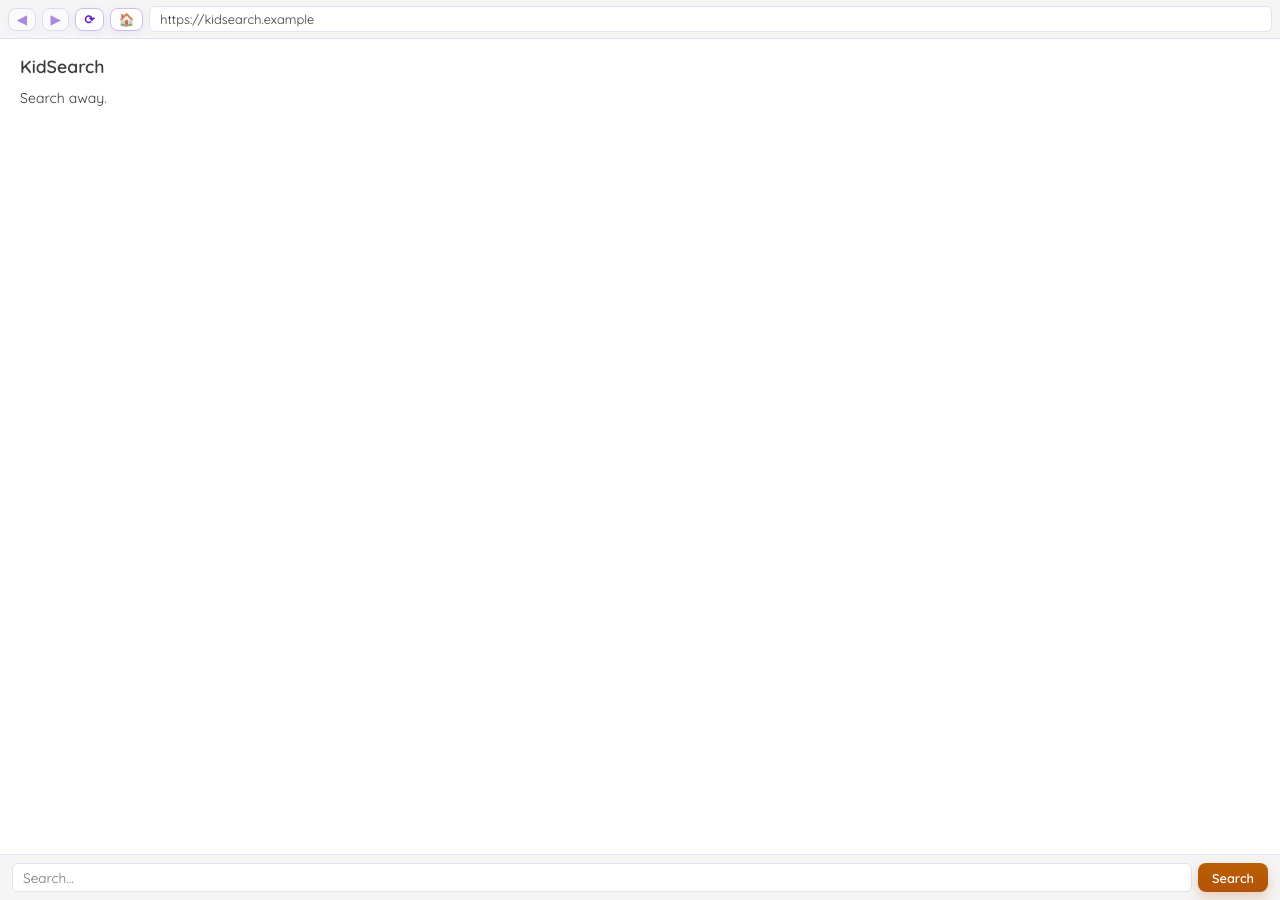
BrowserApp › typing an unknown address shows a not-found message
Replace the text in the field named "Address bar" with "https://nope.example" at (711, 19), box [149, 6, 1272, 32]
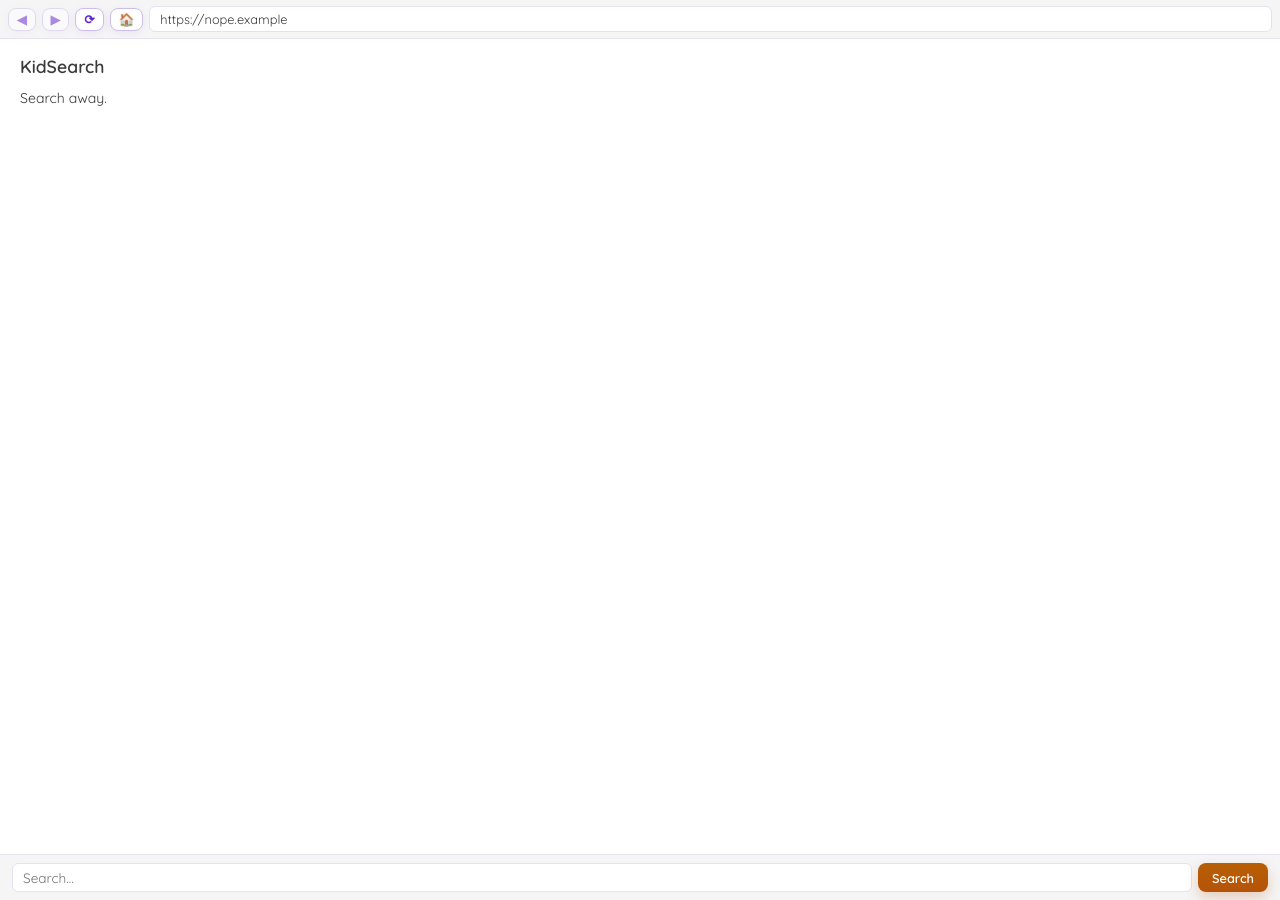
Submit the form named "Address bar", box [149, 6, 1272, 32]
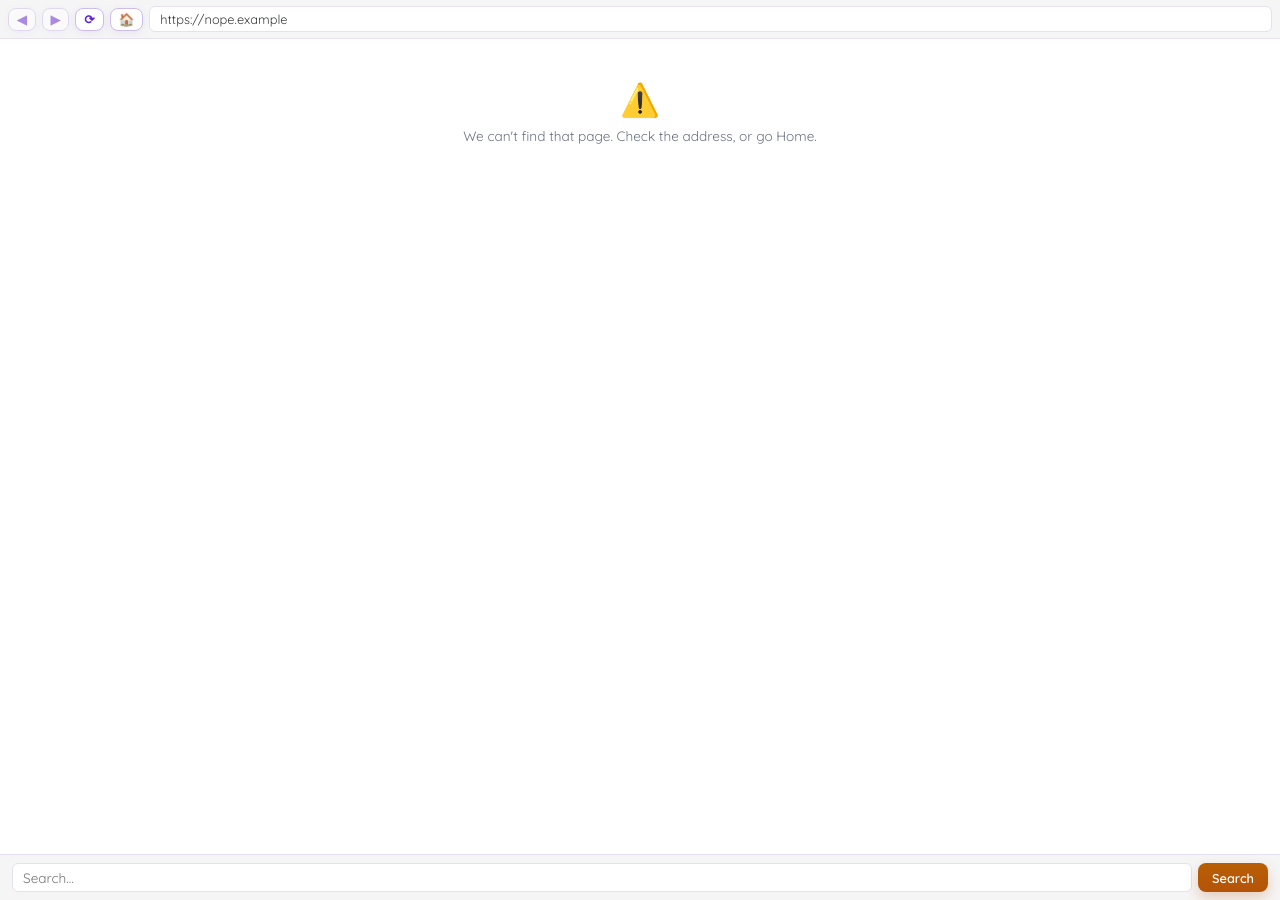
expect the text "We can't find that page. Check the address, or go Home." is shown: met, box [463, 127, 817, 144]
